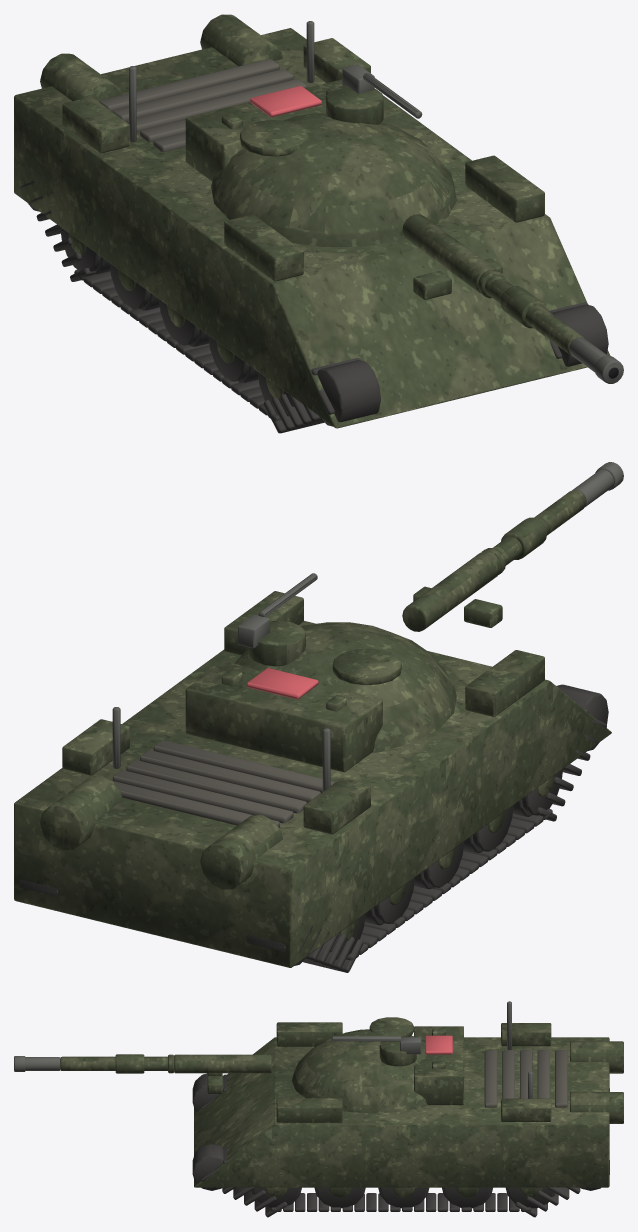
Rendered from mbt_e2_kp_chonma_LOD0.glb.
3 views of the same model, one above another, from view 1: azimuth 30°, elevation 25°; view 2: azimuth 150°, elevation 25°; view 3: azimuth 270°, elevation 25° (orthographic). The views are drawn at different scales.
Visible parts, largest first — view 1: mbt_e2_kp_chonma_LOD0_body, mbt_e2_kp_chonma_LOD0_track, mbt_e2_kp_chonma_LOD0_deck, mbt_e2_kp_chonma_LOD0_gun, mbt_e2_kp_chonma_LOD0_team; view 2: mbt_e2_kp_chonma_LOD0_body, mbt_e2_kp_chonma_LOD0_deck, mbt_e2_kp_chonma_LOD0_track, mbt_e2_kp_chonma_LOD0_gun, mbt_e2_kp_chonma_LOD0_team; view 3: mbt_e2_kp_chonma_LOD0_body, mbt_e2_kp_chonma_LOD0_track, mbt_e2_kp_chonma_LOD0_deck, mbt_e2_kp_chonma_LOD0_gun, mbt_e2_kp_chonma_LOD0_team.
Part boxes in pixels (x1,y1,x2,y2): mbt_e2_kp_chonma_LOD0_body: (14,14,610,428); mbt_e2_kp_chonma_LOD0_track: (20,180,608,433); mbt_e2_kp_chonma_LOD0_deck: (99,59,307,152); mbt_e2_kp_chonma_LOD0_gun: (129,21,623,383); mbt_e2_kp_chonma_LOD0_team: (250,86,321,117); mbt_e2_kp_chonma_LOD0_body: (14,490,611,967); mbt_e2_kp_chonma_LOD0_deck: (111,740,334,827); mbt_e2_kp_chonma_LOD0_track: (18,684,608,972); mbt_e2_kp_chonma_LOD0_gun: (112,462,623,791); mbt_e2_kp_chonma_LOD0_team: (246,668,318,699); mbt_e2_kp_chonma_LOD0_body: (60,1017,623,1197); mbt_e2_kp_chonma_LOD0_track: (192,1073,609,1217); mbt_e2_kp_chonma_LOD0_deck: (484,1050,567,1107); mbt_e2_kp_chonma_LOD0_gun: (14,1001,532,1098); mbt_e2_kp_chonma_LOD0_team: (425,1035,452,1054).
Size of the model in its own units: 3.3 by 2.71 by 9.71.
6 materials, 1 textured.
